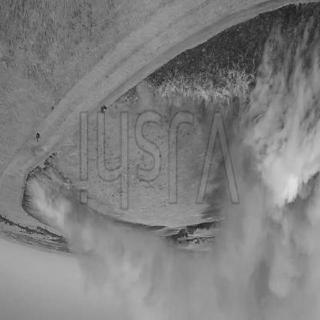Fire: (148, 62, 252, 128), (40, 161, 76, 207), (123, 86, 139, 110)
Smoke: (76, 221, 172, 307)
